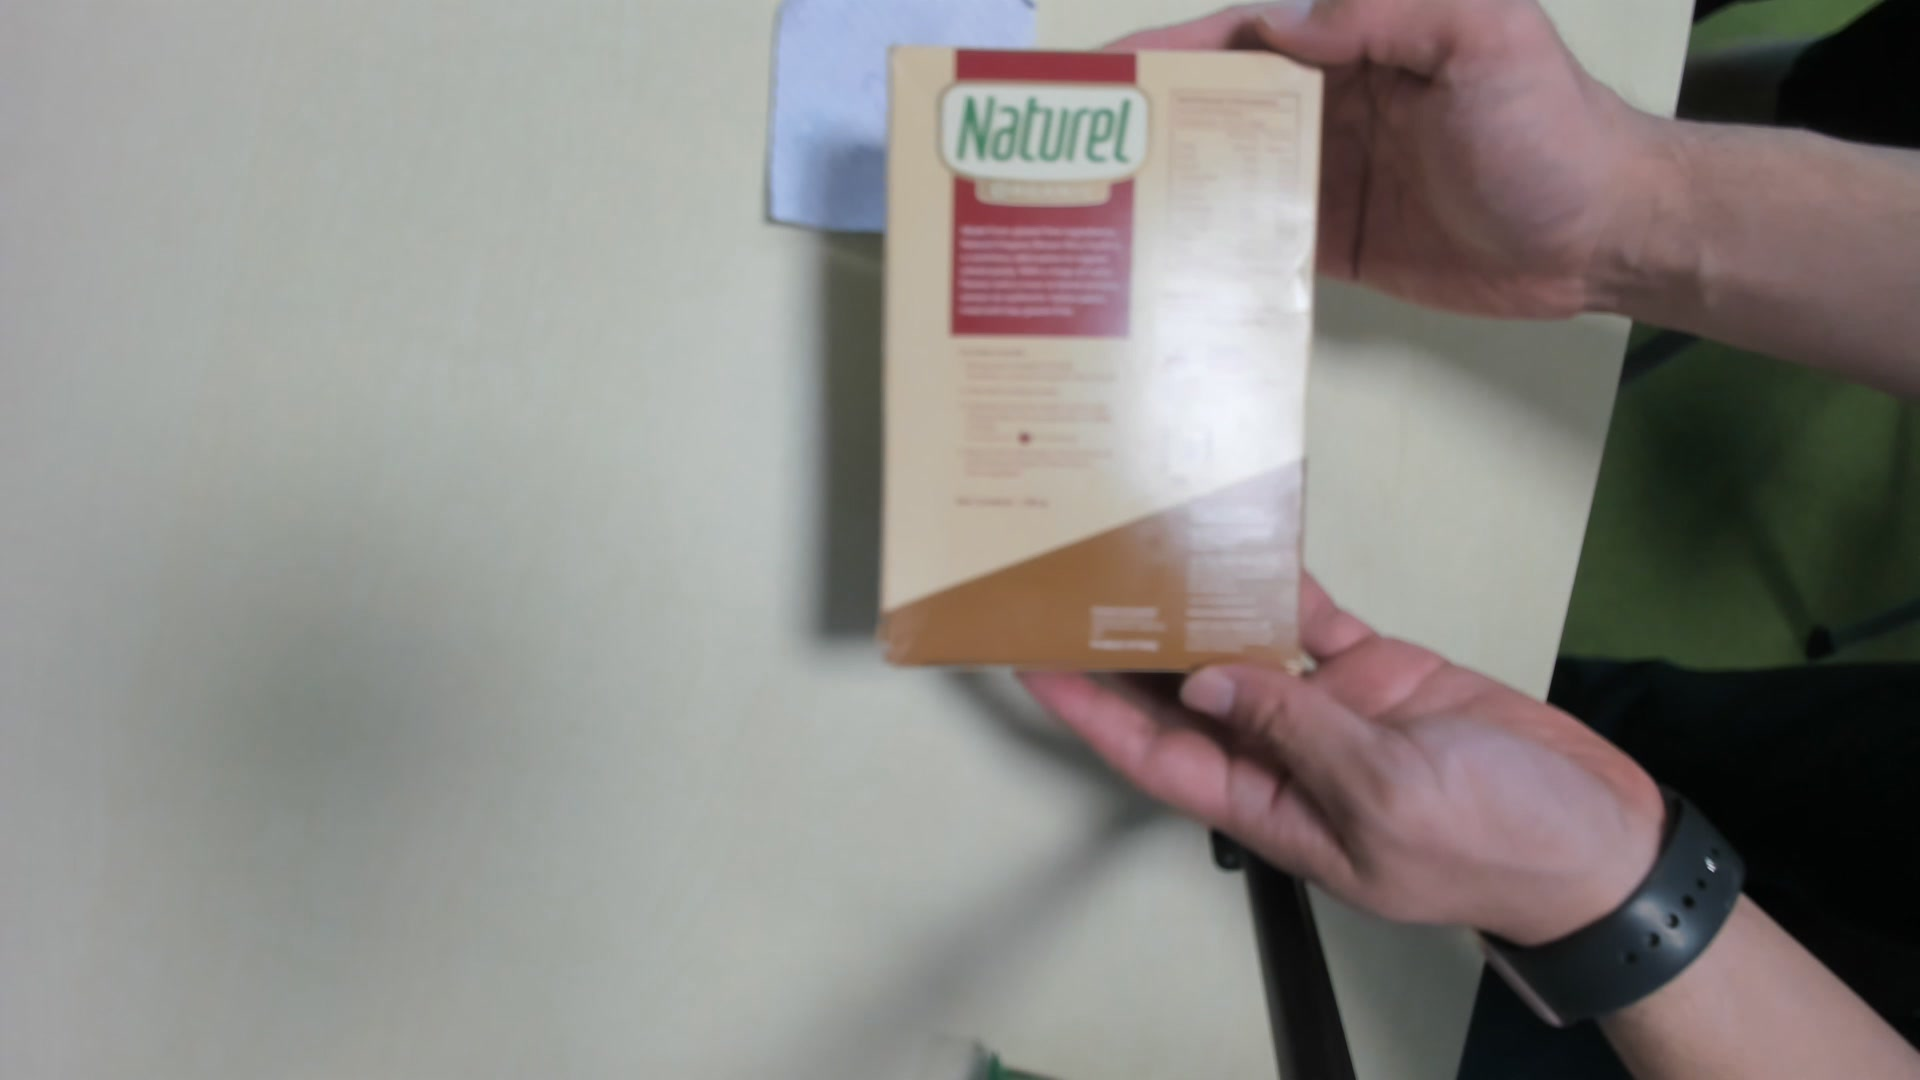Pasta_200-299g_Halal_Healthy: (876, 49, 1328, 674)
